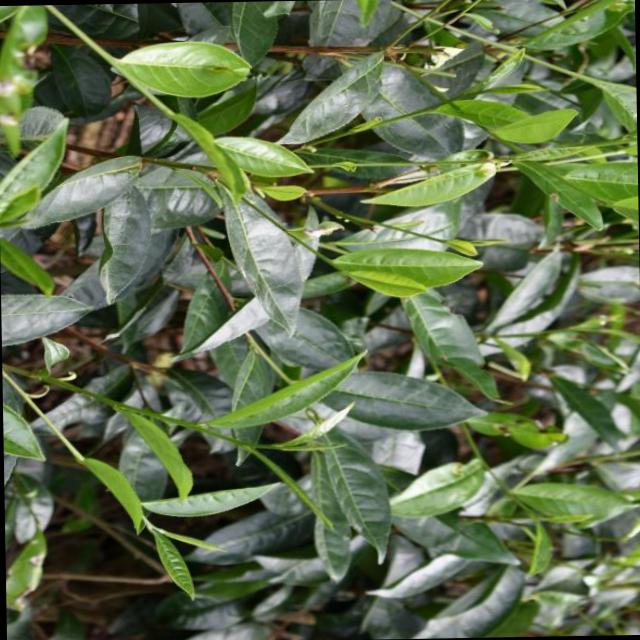Stem: (239, 442, 246, 448)
